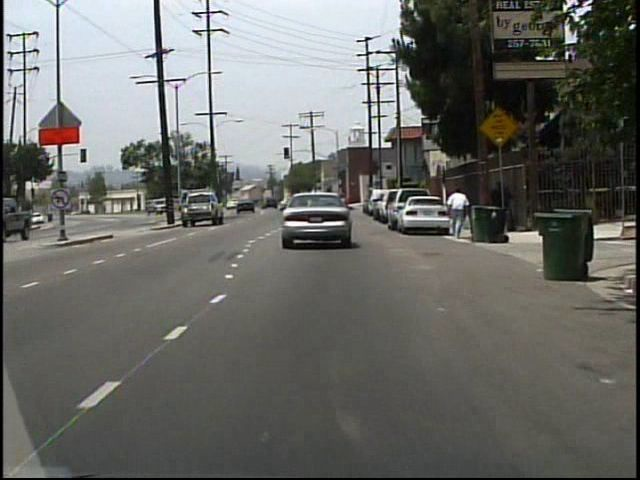person: (444, 186, 469, 241)
